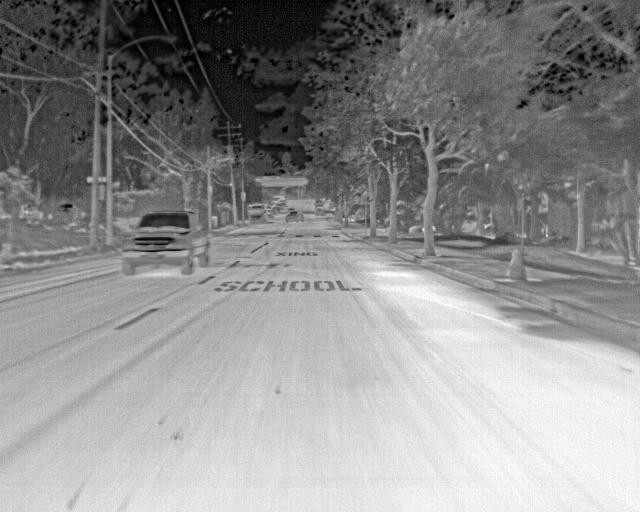car: (124, 209, 208, 275), (248, 202, 267, 222), (285, 208, 301, 221)
